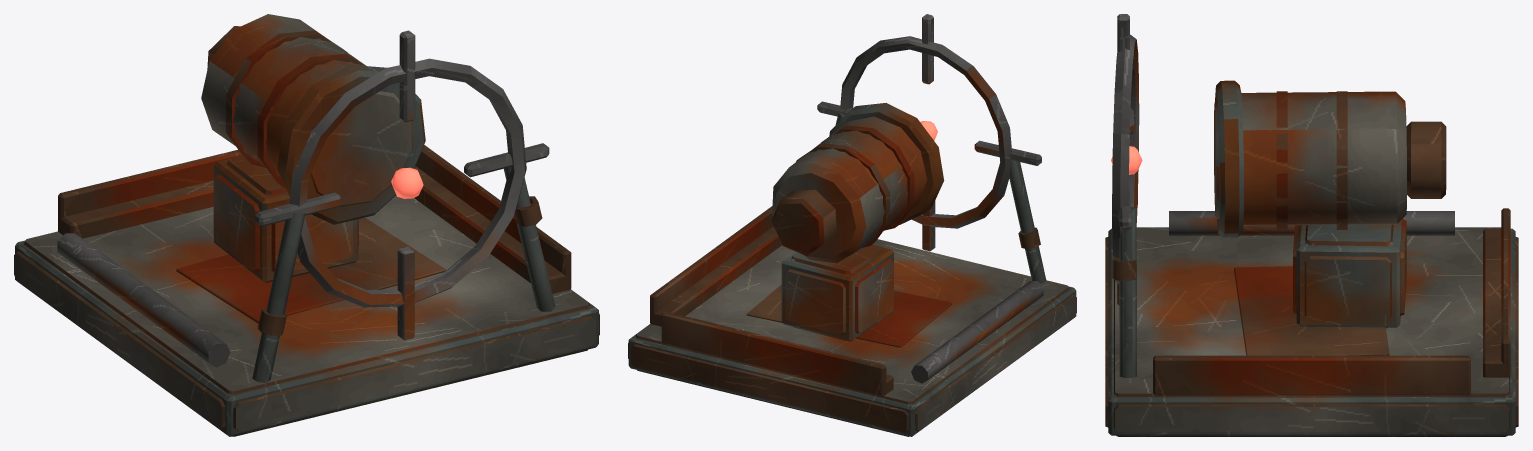
The model's file is R4X_WeakPointScanner.glb.
3 views of the same model, side by side, from view 1: azimuth 30°, elevation 25°; view 2: azimuth 150°, elevation 25°; view 3: azimuth 270°, elevation 25° (orthographic). The views are drawn at different scales.
Visible parts, largest first — view 1: R4X_WeakPointScanner_Body; view 2: R4X_WeakPointScanner_Body; view 3: R4X_WeakPointScanner_Body.
Part boxes in pixels (bbox=[...]): R4X_WeakPointScanner_Body: bbox=[14, 14, 599, 436]; R4X_WeakPointScanner_Body: bbox=[628, 14, 1076, 436]; R4X_WeakPointScanner_Body: bbox=[1105, 14, 1518, 436].
Bounding box in the file's own units: 0.52 × 0.47 × 0.52.
Materials: 5 (4 with a texture image).
